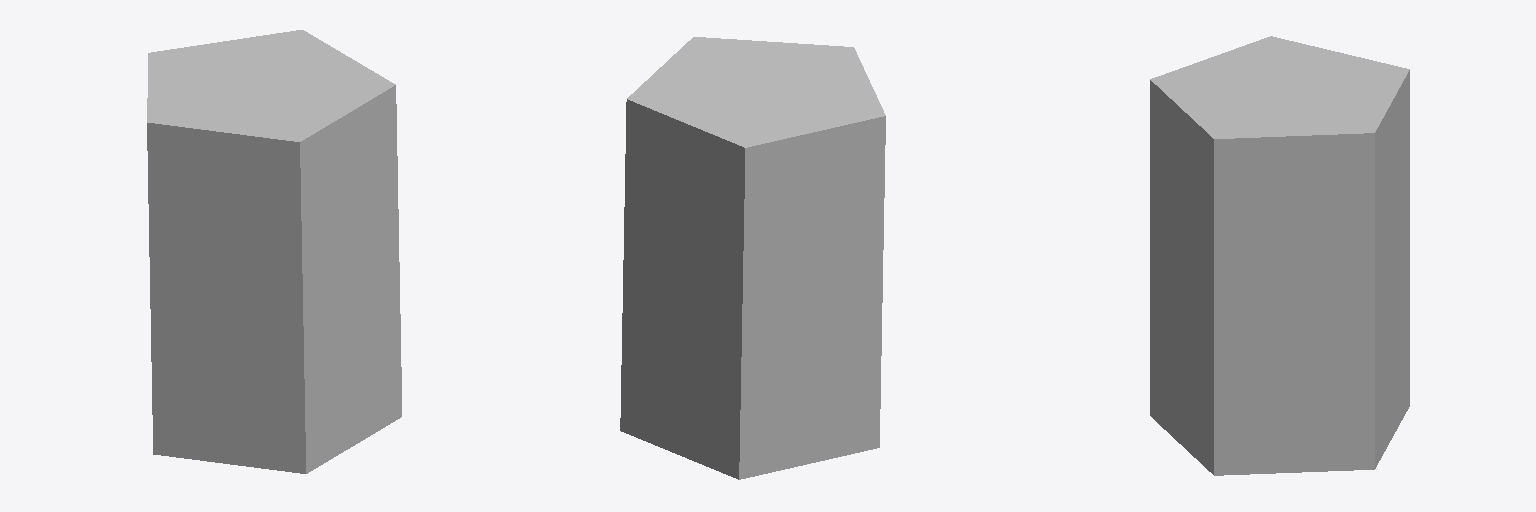
The model's file is barrel.obj.
The picture shows the model from 3 angles: view 1: azimuth 30°, elevation 25°; view 2: azimuth 150°, elevation 25°; view 3: azimuth 270°, elevation 25°; orthographic projection.
Parts seen in each view (by area): view 1: Barrel; view 2: Barrel; view 3: Barrel.
Boxes of the visible parts, x1,y1,x2,y2 form: Barrel: [147, 30, 401, 473]; Barrel: [620, 37, 885, 479]; Barrel: [1150, 36, 1409, 475].
Bounding box in the file's own units: 1.08 × 1.53 × 1.07.